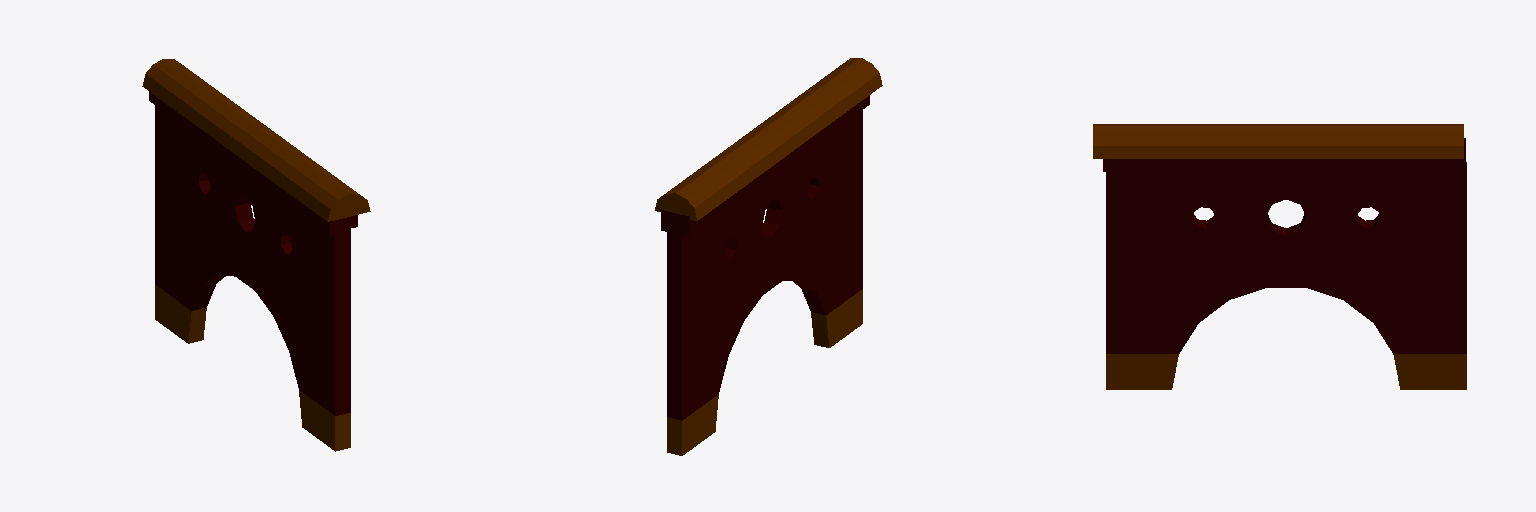
The model's file is gothic_chair_left.obj.
3 renders of one model, left to right at view 1: azimuth 30°, elevation 25°; view 2: azimuth 150°, elevation 25°; view 3: azimuth 270°, elevation 25°, orthographic.
Visible parts, largest first — view 1: gothic_chair_left; view 2: gothic_chair_left; view 3: gothic_chair_left.
Part boxes in pixels (bbox=[...]): gothic_chair_left: bbox=[142, 59, 370, 451]; gothic_chair_left: bbox=[655, 58, 882, 455]; gothic_chair_left: bbox=[1093, 124, 1466, 389].
Bounding box in the file's own units: 15.04 × 87.05 × 113.